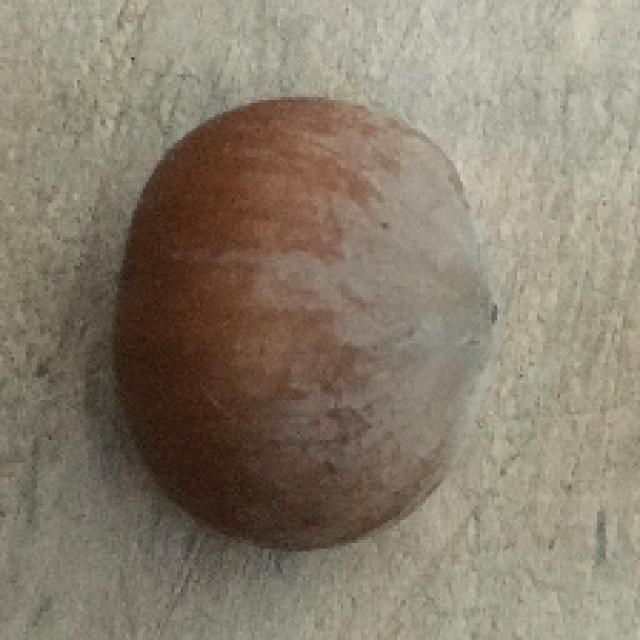qualityHazelnut: (101, 82, 507, 566)
